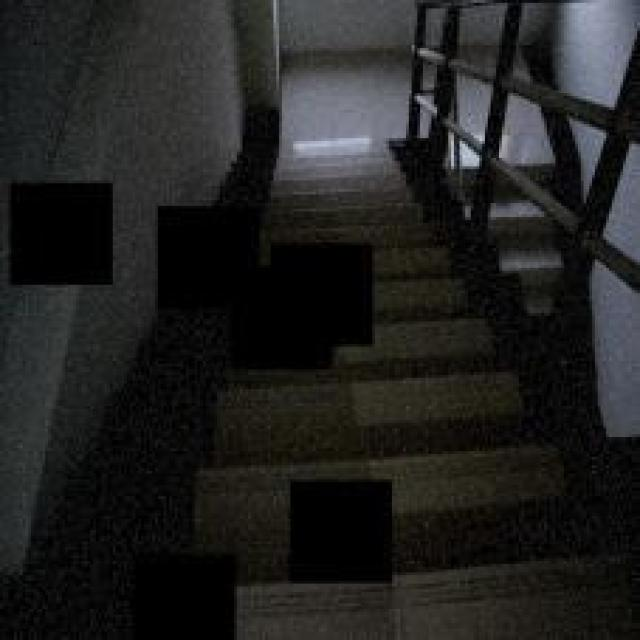downstair: (266, 137, 415, 230)
